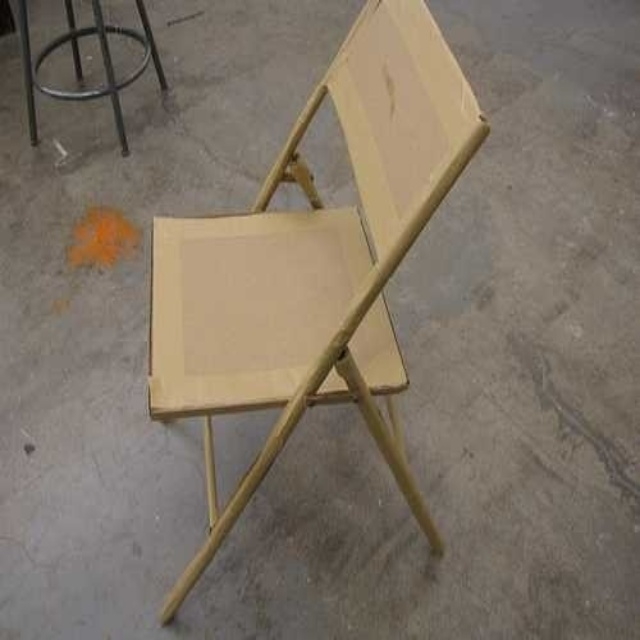obstacle: (148, 0, 488, 623)
